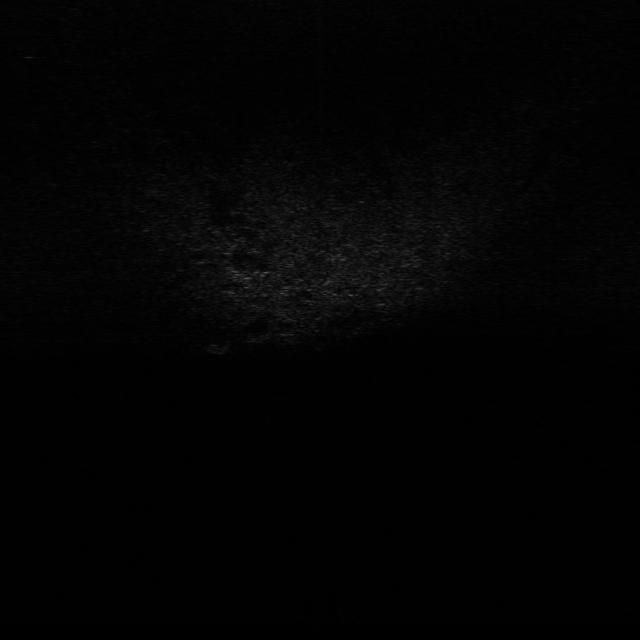cube: (206, 335, 234, 357)
